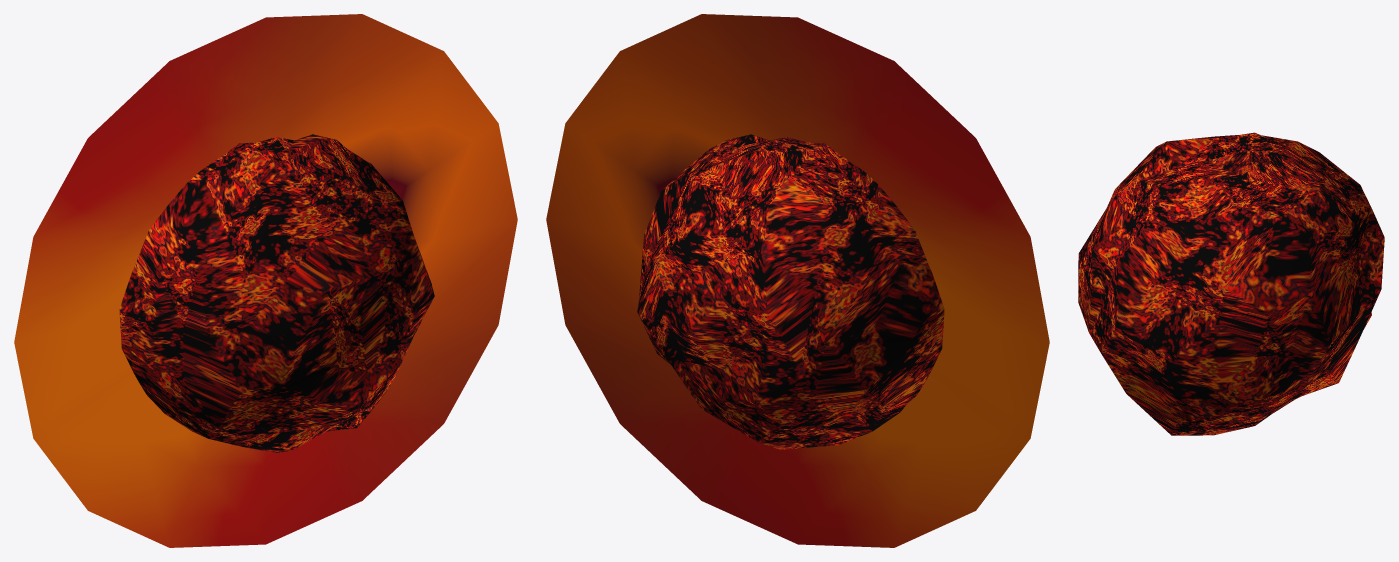
Rendered from WpnMetaridleyFireballL.obj.
3 renders of one model, left to right at view 1: azimuth 30°, elevation 25°; view 2: azimuth 150°, elevation 25°; view 3: azimuth 270°, elevation 25°, orthographic. The views are drawn at different scales.
Parts seen in each view (by area): view 1: polygon1, polygon0; view 2: polygon1, polygon0; view 3: polygon0.
Part boxes in pixels (x1,y1,x2,y2): polygon1: (14, 14, 517, 547); polygon0: (119, 134, 434, 453); polygon1: (546, 14, 1049, 547); polygon0: (637, 134, 944, 449); polygon0: (1078, 132, 1384, 435).
Bounding box in the file's own units: 77.15 × 77.15 × 44.26.
Materials: 2 (2 with a texture image).
